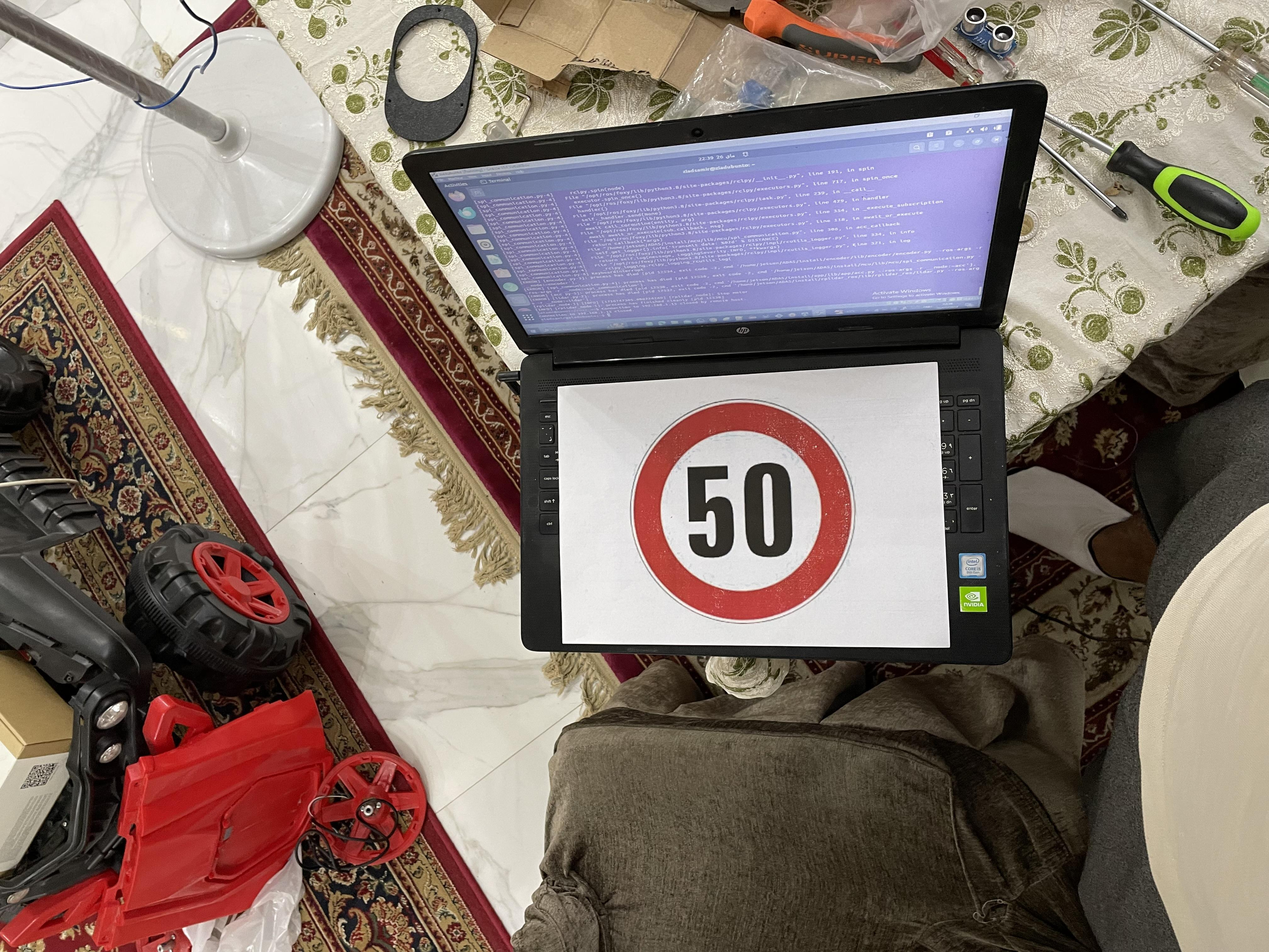50-Speed: (441, 463, 747, 655)
